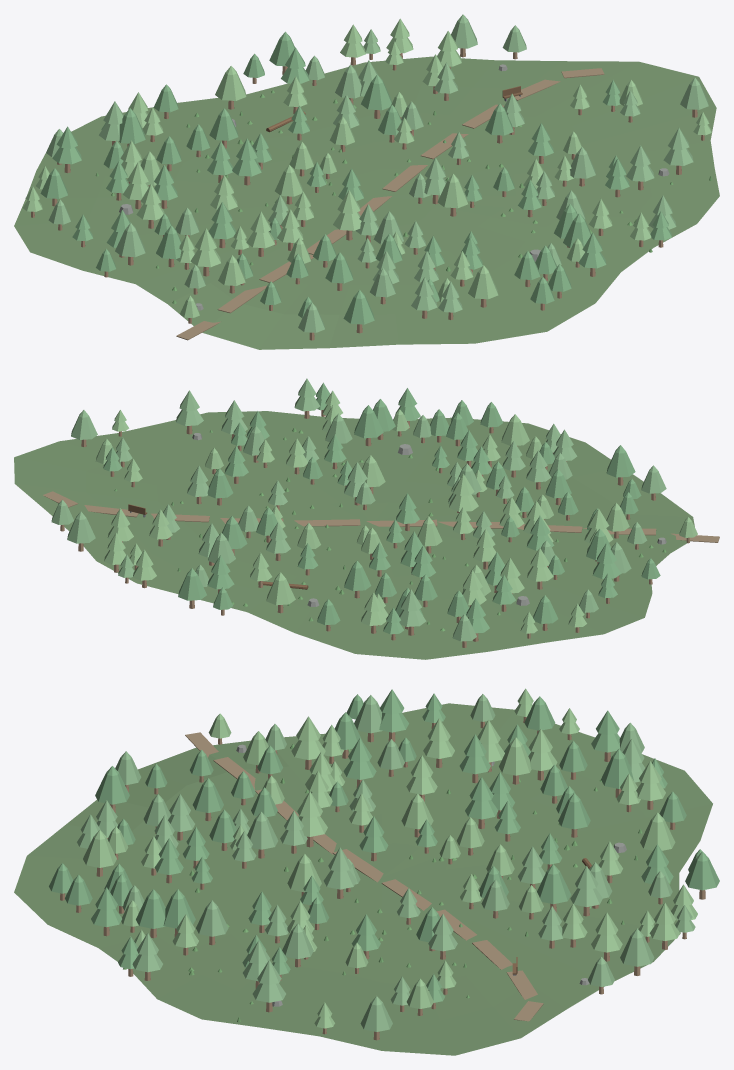
Rendered from east-woods.glb.
3 renders of one model, top to bottom at view 1: azimuth 30°, elevation 25°; view 2: azimuth 150°, elevation 25°; view 3: azimuth 270°, elevation 25°, orthographic. The views are drawn at different scales.
Visible parts, largest first — view 1: east_woods_batched.001; view 2: east_woods_batched.001; view 3: east_woods_batched.001.
Part boxes in pixels (<box>): east_woods_batched.001: <box>14,14,719,349</box>; east_woods_batched.001: <box>14,378,719,659</box>; east_woods_batched.001: <box>14,688,719,1055</box>.
Bounding box in the file's own units: 123 × 11.68 × 101.
